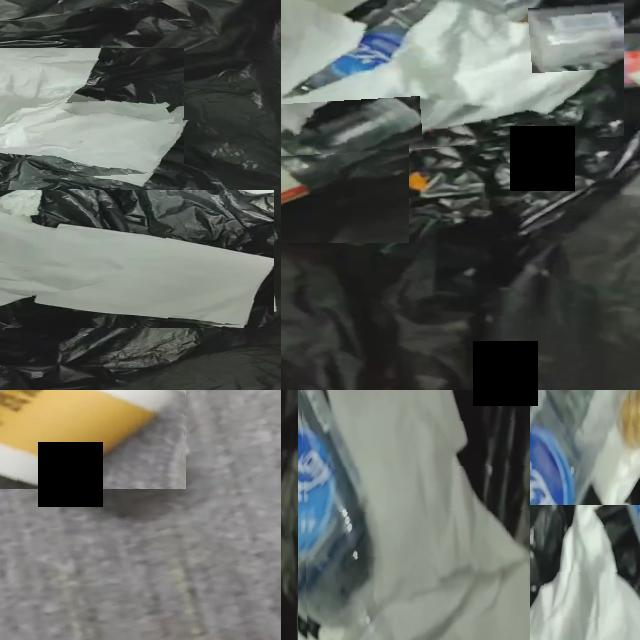bottle: (445, 390, 628, 640), (289, 0, 538, 105), (281, 115, 409, 206), (523, 34, 640, 99)
dixie_cup: (0, 390, 185, 488)
paper: (281, 2, 624, 155), (326, 390, 530, 640), (0, 190, 274, 326), (0, 48, 184, 176), (501, 505, 640, 640), (576, 390, 640, 511), (490, 626, 518, 640)
